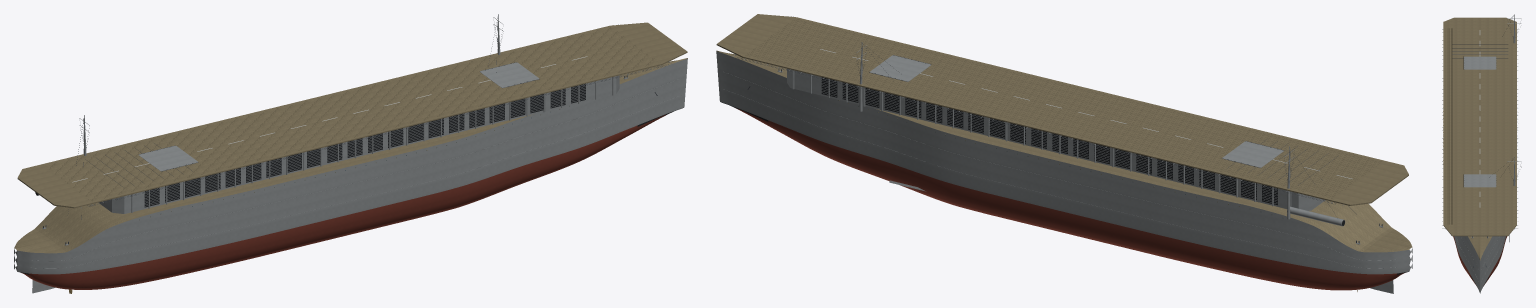
File: argus.glb
3 views of the same model, side by side, from view 1: azimuth 30°, elevation 25°; view 2: azimuth 150°, elevation 25°; view 3: azimuth 270°, elevation 25° (orthographic). The views are drawn at different scales.
Visible parts, largest first — view 1: Argus; view 2: Argus; view 3: Argus.
Boxes of the visible parts, x1,y1,x2,y2 form: Argus: (14, 14, 687, 293); Argus: (716, 14, 1412, 293); Argus: (1442, 14, 1521, 293).
Size of the model in its own units: 172 by 35.28 by 25.25.
Materials: 8 (7 with a texture image).
